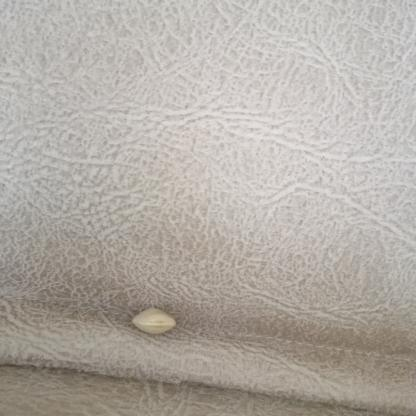pistachio: (127, 302, 177, 337)
